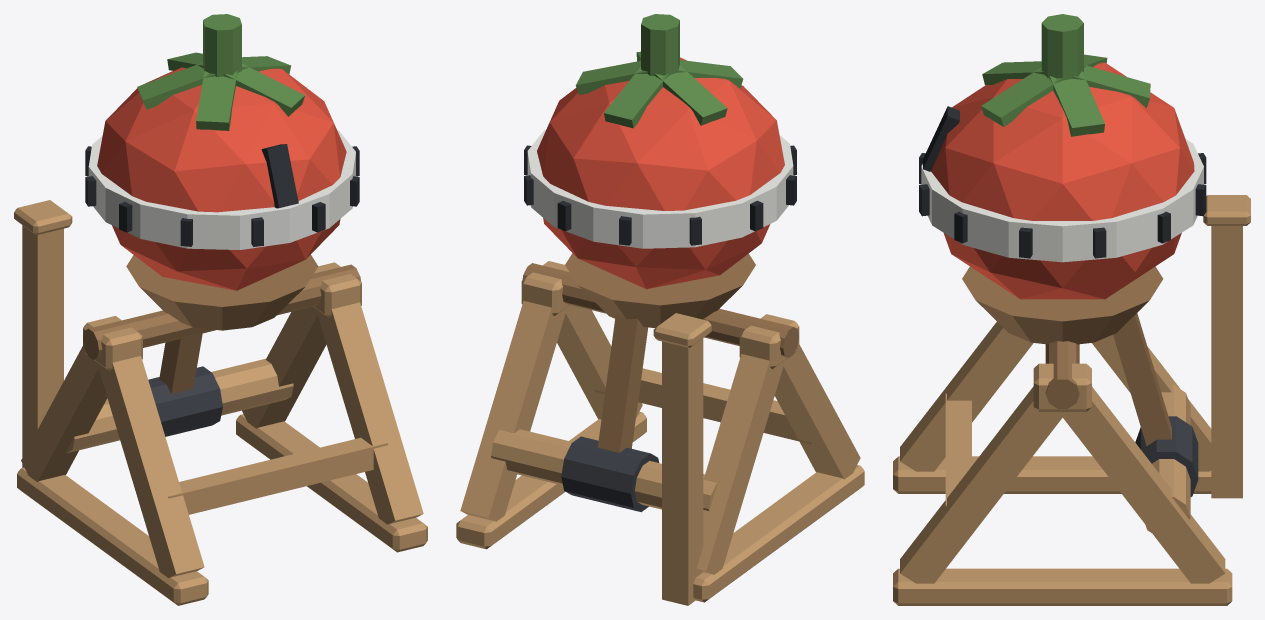
The model's file is pomodoro_core.glb.
The picture shows the model from 3 angles, left to right: view 1: azimuth 30°, elevation 25°; view 2: azimuth 150°, elevation 25°; view 3: azimuth 270°, elevation 25°; orthographic projection. The views are drawn at different scales.
Parts seen in each view (by area): view 1: pomodoro_core_mesh; view 2: pomodoro_core_mesh; view 3: pomodoro_core_mesh.
Part boxes in pixels (x1=…): pomodoro_core_mesh: x1=14, y1=14, x2=427, y2=605; pomodoro_core_mesh: x1=456, y1=14, x2=864, y2=605; pomodoro_core_mesh: x1=893, y1=14, x2=1250, y2=605.
Bounding box in the file's own units: 0.6 × 1.08 × 0.675.
